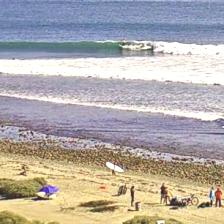surfer: (121, 39, 127, 46), (12, 57, 15, 59)
